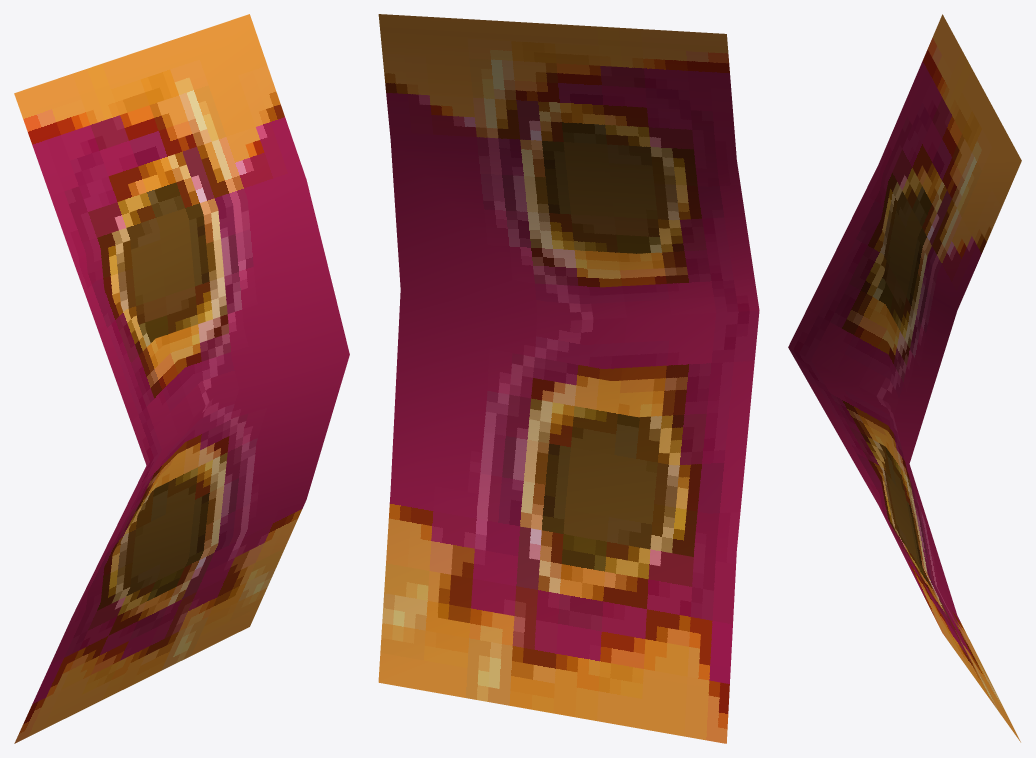
Rendered from acc_mask_venetian.dae.
3 renders of one model, left to right at view 1: azimuth 30°, elevation 25°; view 2: azimuth 150°, elevation 25°; view 3: azimuth 270°, elevation 25°, orthographic. The views are drawn at different scales.
Visible parts, largest first — view 1: acc_mask_venetian; view 2: acc_mask_venetian; view 3: acc_mask_venetian.
Part boxes in pixels (box(x1,y1,x2,y2)): acc_mask_venetian: box(14, 14, 349, 743); acc_mask_venetian: box(378, 14, 759, 743); acc_mask_venetian: box(788, 14, 1021, 742).
Size of the model in its own units: 11.2 by 21.95 by 7.51.
1 material, 1 textured.
